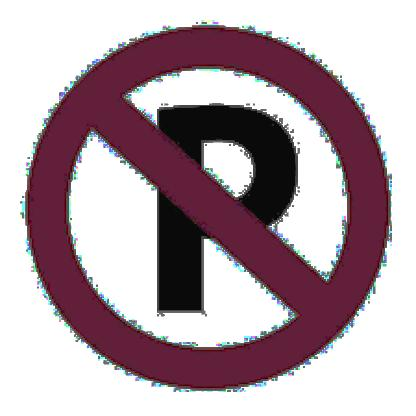No parking: (21, 33, 388, 386)
